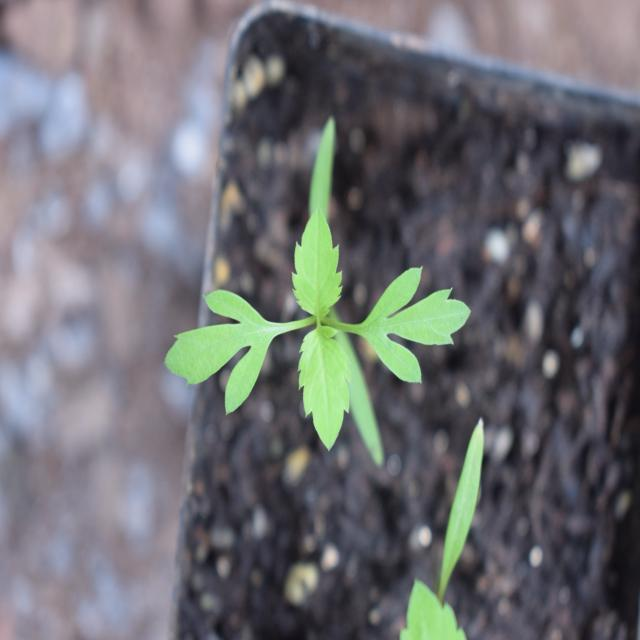Bidens pilosa: (130, 169, 468, 474)
